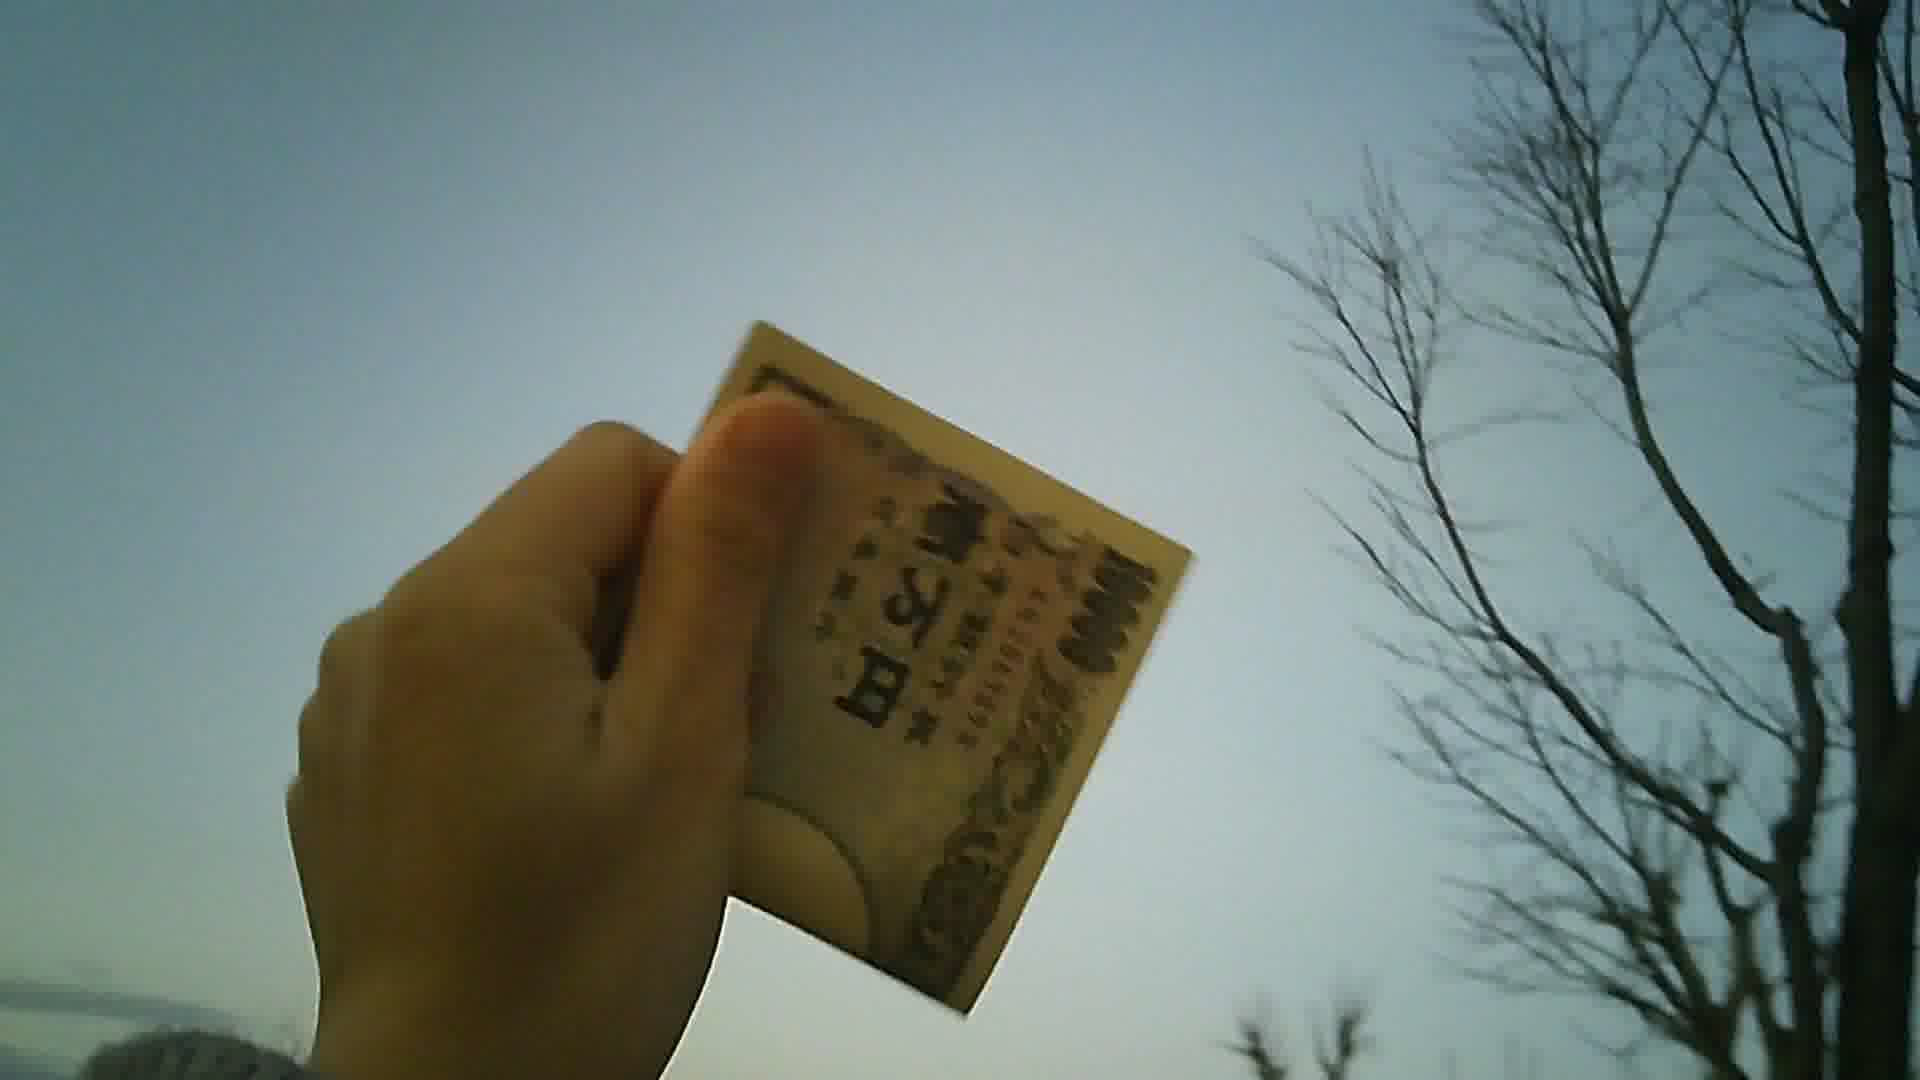10,000 Yen: (591, 313, 1193, 1009)
